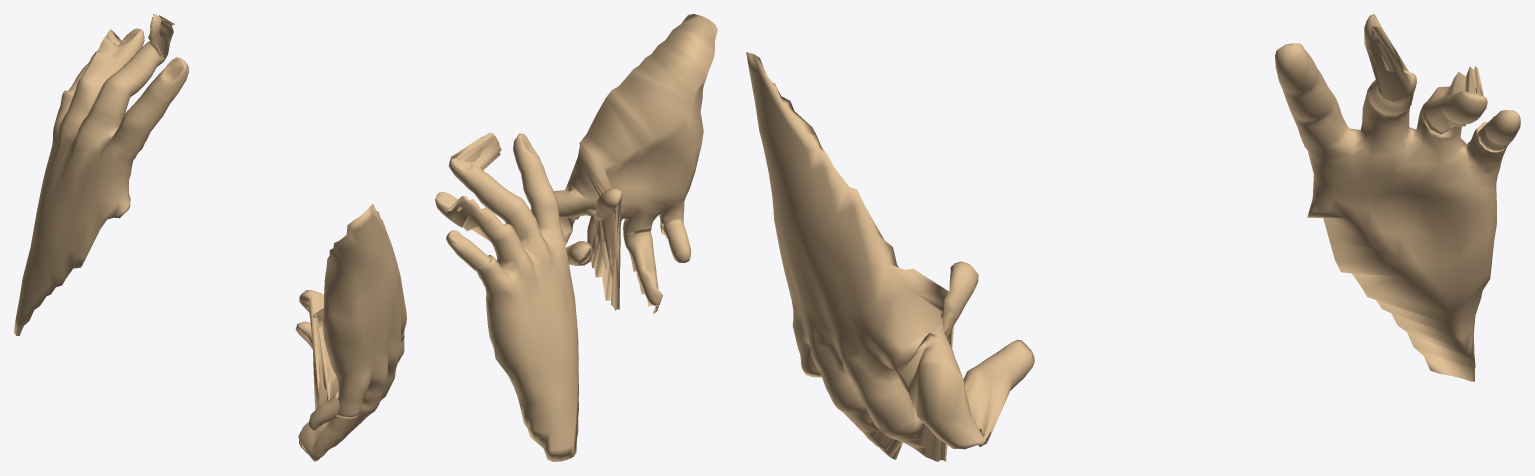
The model's file is ff_fps_arms.glb.
3 renders of one model, left to right at view 1: azimuth 30°, elevation 25°; view 2: azimuth 150°, elevation 25°; view 3: azimuth 270°, elevation 25°, orthographic. The views are drawn at different scales.
Visible parts, largest first — view 1: ff_fps_arms; view 2: ff_fps_arms; view 3: ff_fps_arms.
Boxes of the visible parts, x1,y1,x2,y2 form: ff_fps_arms: (14,14,406,461); ff_fps_arms: (435,14,717,461); ff_fps_arms: (746,14,1520,461).
Size of the model in its own units: 0.1673 by 0.2423 by 0.3764.
